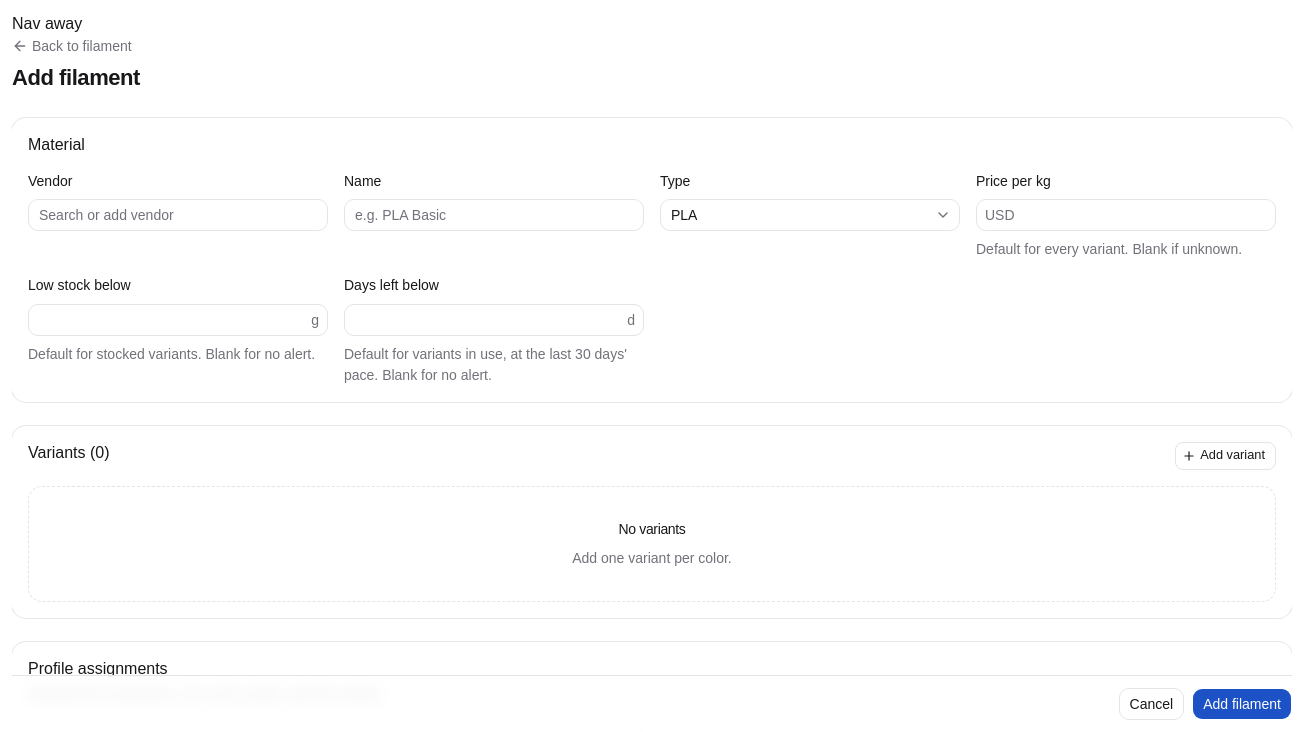
Test: FilamentFormPage › shows inline field errors when submitted with no vendor, material, or variant
Check: the dropdown labelled "Vendor" is shown, box [29,200,327,230]
Click the button "Add filament" at (1242, 704), box [1192,688,1292,720]
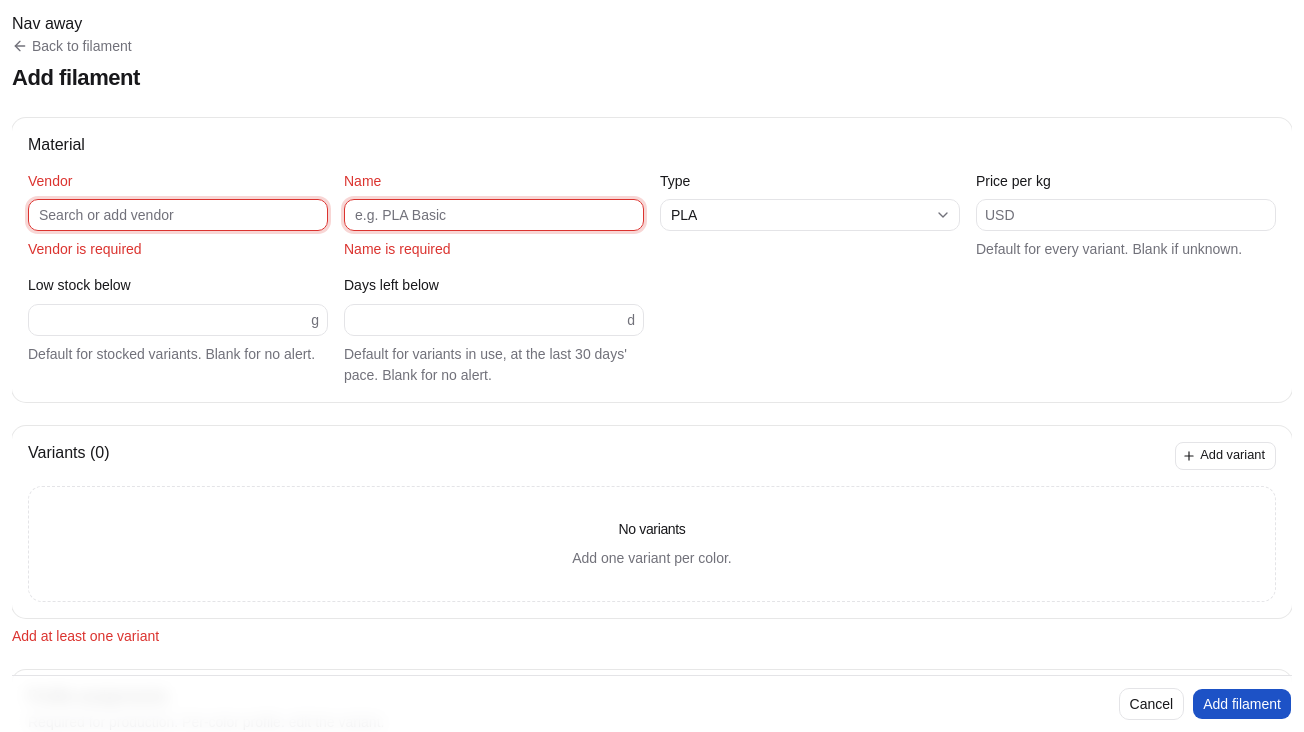
Check: the text "Vendor is required" is shown, box [28,241,142,257]
Check: the text "Name is required" is shown, box [344,241,451,257]
Check: the text "Add at least one variant" is shown, box [12,628,159,644]
